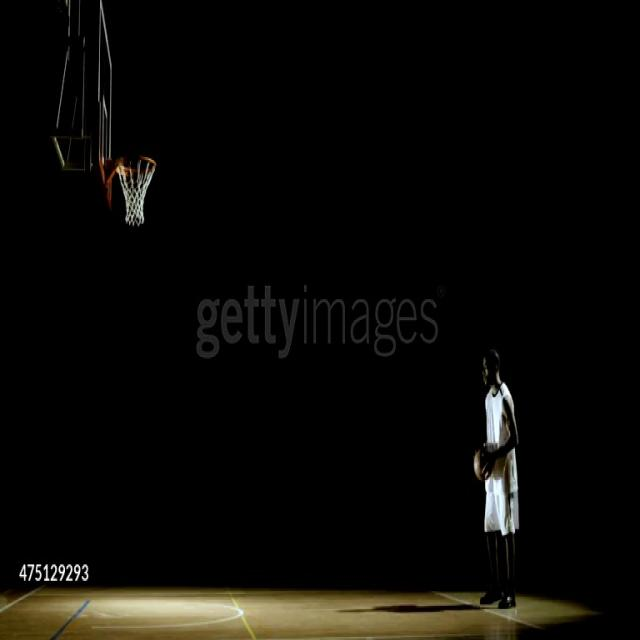ball: (473, 448, 492, 482)
